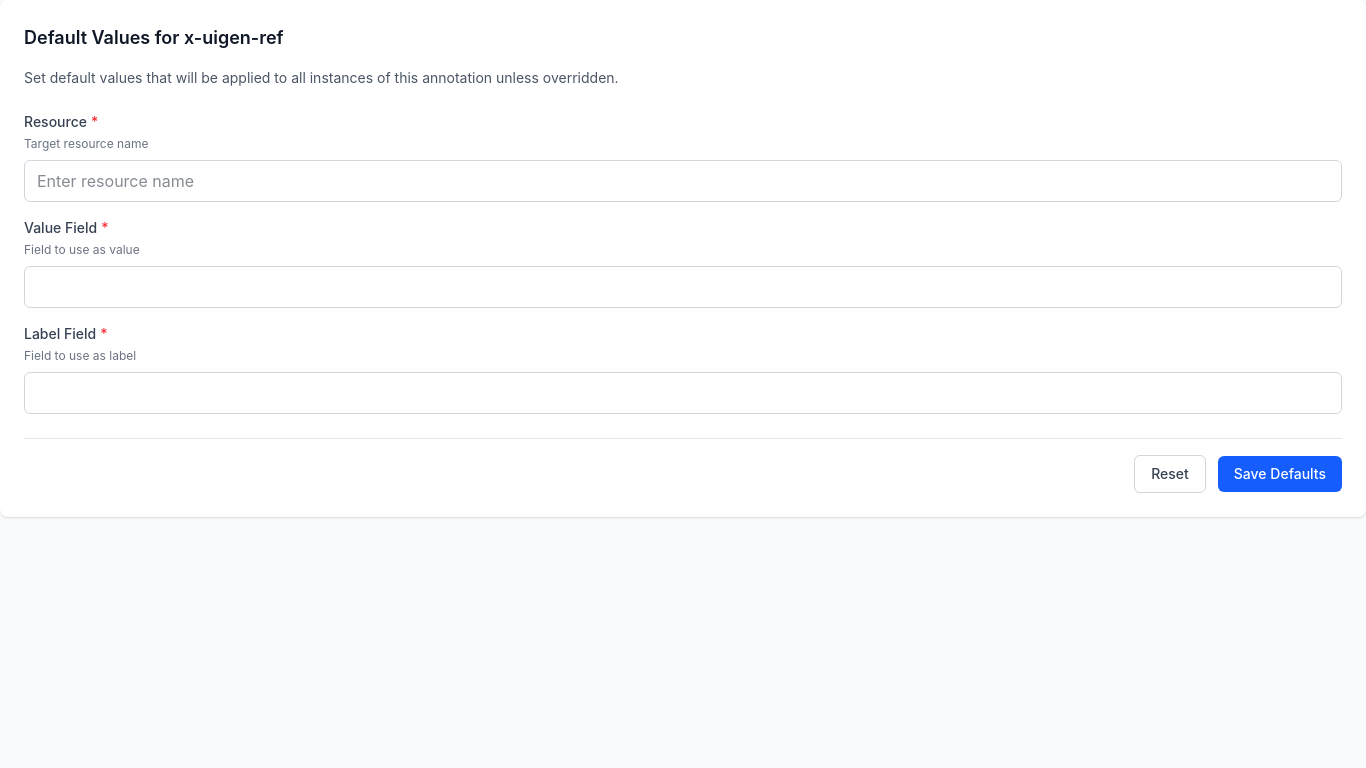
AnnotationForm › Validation › should clear error when field is corrected
Note: Submit to trigger validation
Click the button "Save Defaults" at (1280, 474), box [1218,456,1342,492]
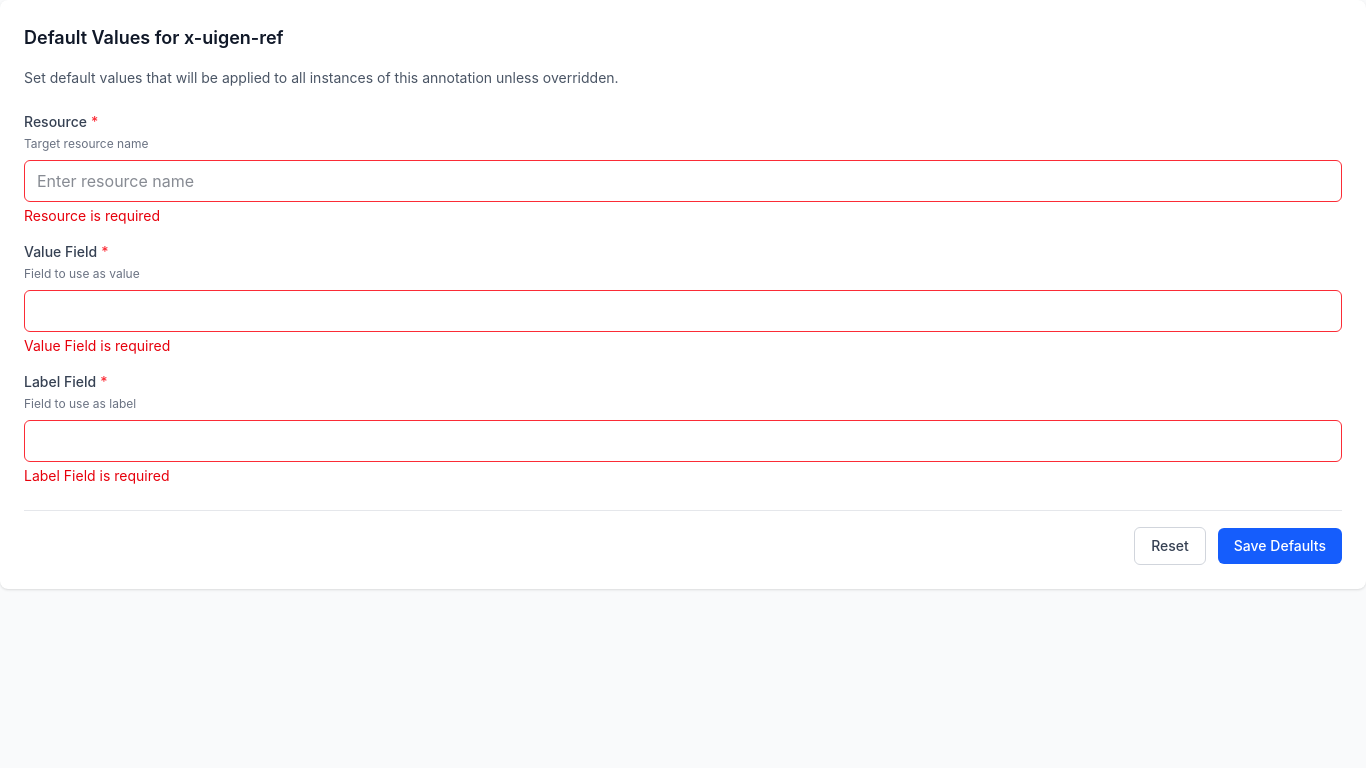
Expected: the text "Resource is required" is shown, [24,207,160,224]
Note: Fix the error
Type "User" into the field labelled "Resource*" at (683, 181), box [24,160,1342,202]
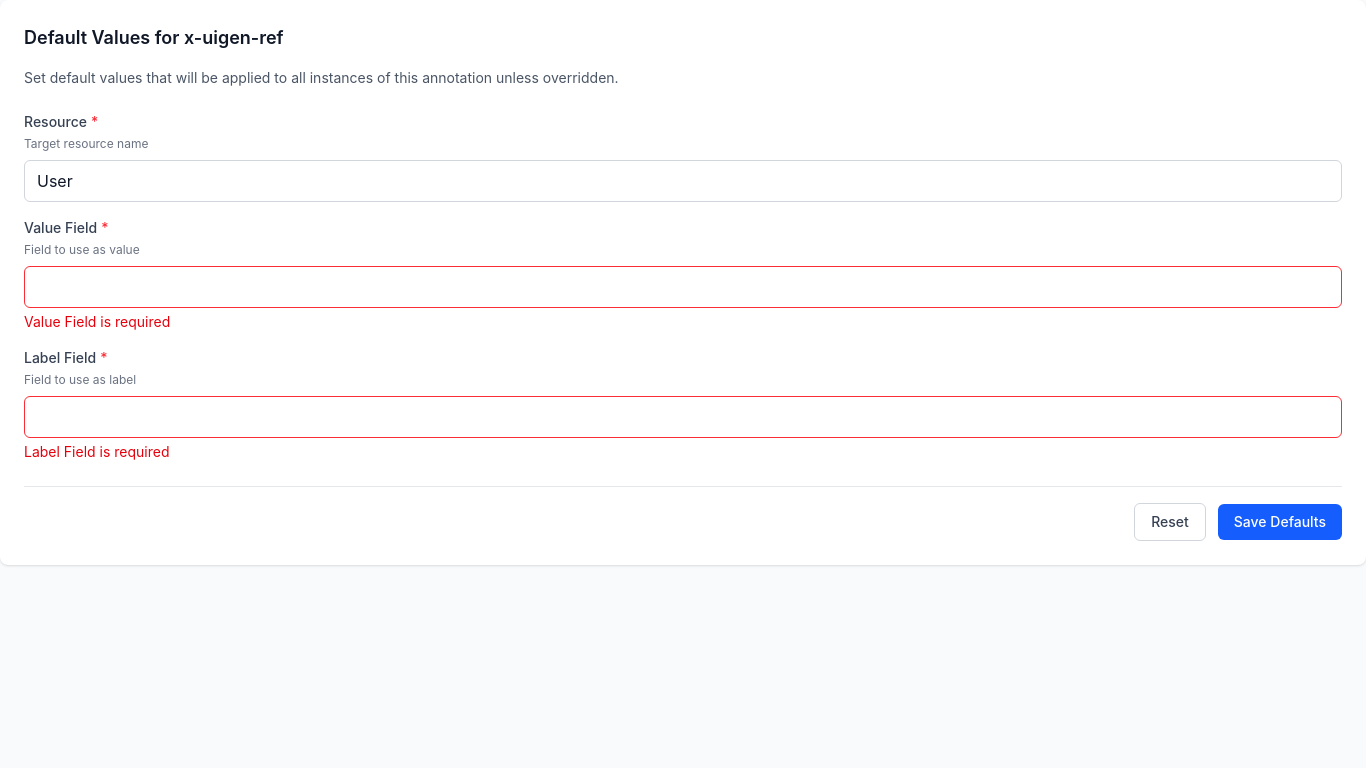
Expected: the text "Resource is required" is gone
